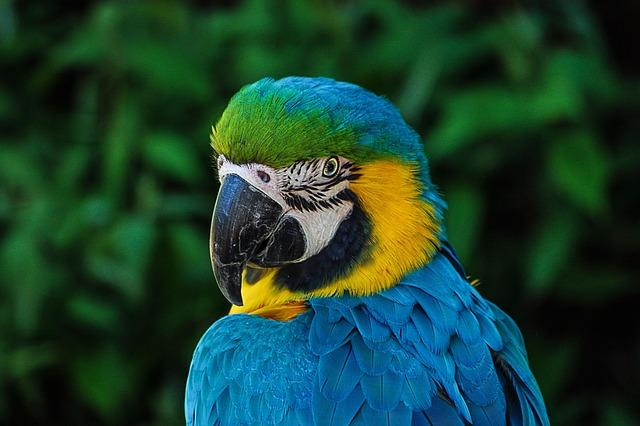Non_Gorille: (182, 42, 542, 426)
